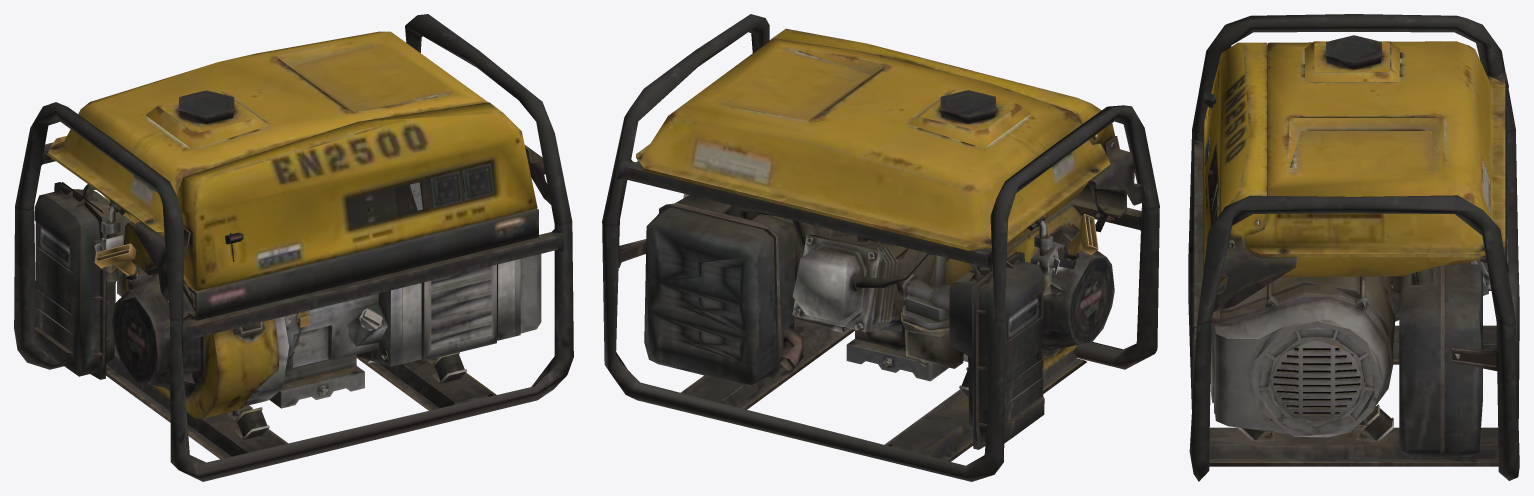
The model's file is generator.glb.
The picture shows the model from 3 angles, left to right: view 1: azimuth 30°, elevation 25°; view 2: azimuth 150°, elevation 25°; view 3: azimuth 270°, elevation 25°; orthographic projection.
Visible parts, largest first — view 1: portable_generator; view 2: portable_generator; view 3: portable_generator.
Boxes of the visible parts, box(x1,y1,x2,y2) form: portable_generator: box(14, 14, 573, 481); portable_generator: box(602, 14, 1159, 481); portable_generator: box(1188, 14, 1519, 481).
Bounding box in the file's own units: 0.8146 × 0.5752 × 0.564.
2 materials, 2 textured.
